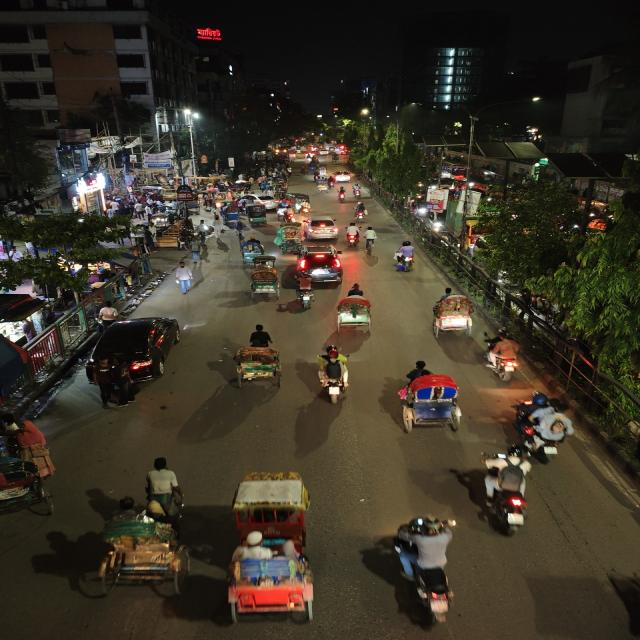bicycle: (362, 223, 378, 253)
car: (85, 314, 184, 406), (293, 241, 345, 287), (301, 214, 340, 240), (332, 170, 352, 183)
cng: (290, 192, 308, 212)
motorcycle: (388, 511, 467, 623), (476, 446, 536, 538), (512, 393, 577, 463), (480, 328, 530, 386), (312, 343, 354, 407), (291, 271, 318, 311), (391, 241, 419, 273), (345, 222, 360, 247), (353, 201, 370, 221), (281, 205, 296, 224), (336, 186, 349, 205), (351, 183, 363, 197), (313, 171, 319, 184)
pedestrian: (95, 301, 120, 331), (172, 262, 195, 294), (190, 236, 211, 266), (210, 214, 225, 238), (199, 218, 213, 240)
rickshaw: (215, 467, 326, 626), (86, 458, 188, 599), (389, 358, 476, 437), (0, 416, 62, 522), (228, 327, 288, 389), (427, 287, 479, 340), (333, 296, 375, 332), (246, 267, 281, 301), (274, 224, 304, 252), (238, 237, 265, 262), (242, 204, 269, 228), (220, 204, 243, 229), (315, 178, 331, 192)
